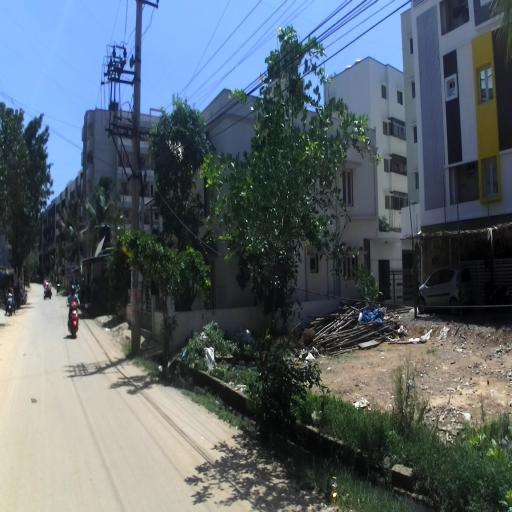street_light_0: (69, 226, 80, 251)
